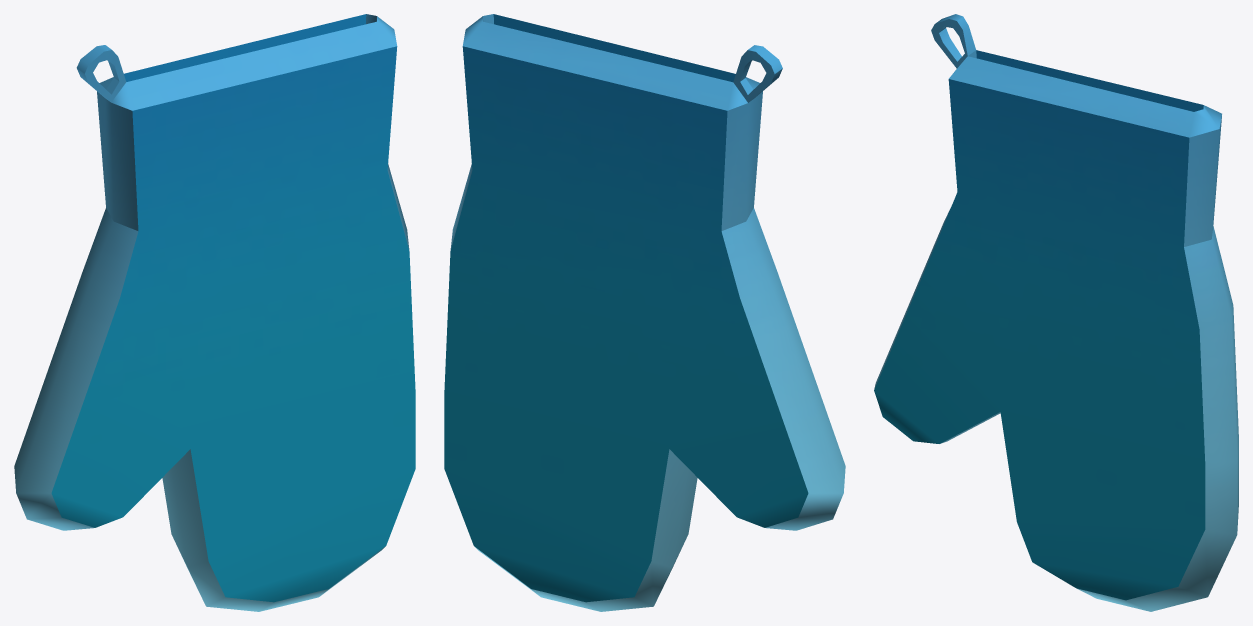
The model's file is SM_Potholder_05.fbx.
3 renders of one model, left to right at view 1: azimuth 30°, elevation 25°; view 2: azimuth 150°, elevation 25°; view 3: azimuth 330°, elevation 25°, orthographic. The views are drawn at different scales.
Visible parts, largest first — view 1: SM_Potholder_05; view 2: SM_Potholder_05; view 3: SM_Potholder_05.
Boxes of the visible parts, x1,y1,x2,y2 form: SM_Potholder_05: [14, 14, 415, 611]; SM_Potholder_05: [444, 14, 845, 611]; SM_Potholder_05: [874, 14, 1238, 611].
Bounding box in the file's own units: 19.19 × 27.74 × 3.16.
